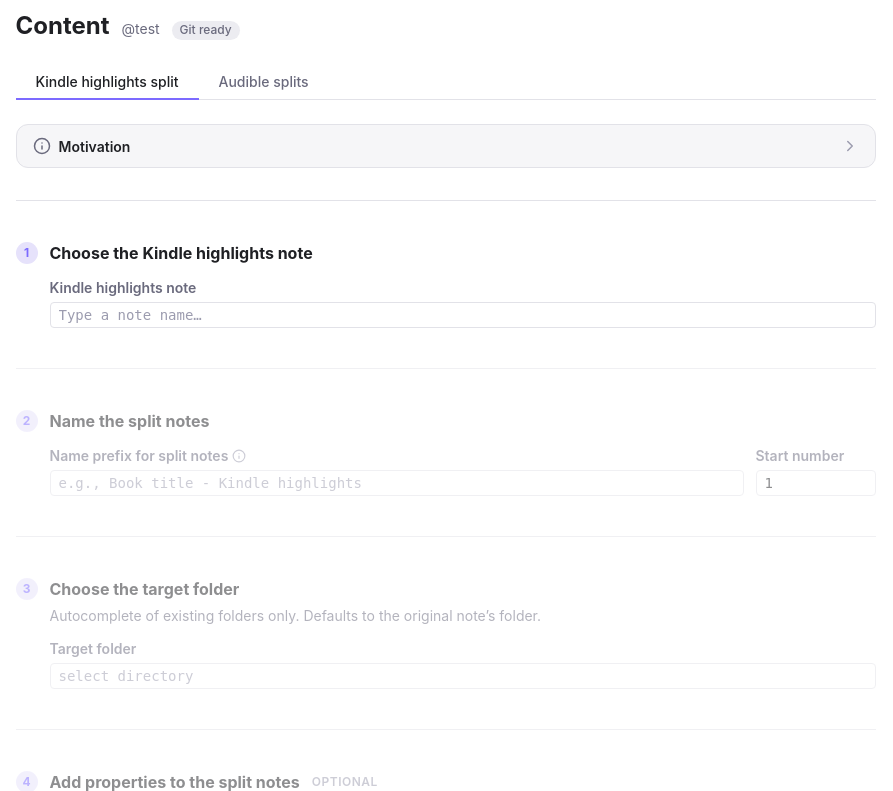
ContentPage: the Audible tab is an empty placeholder
Click the button "Audible splits".
click(264, 82)  # box [198, 65, 329, 100]
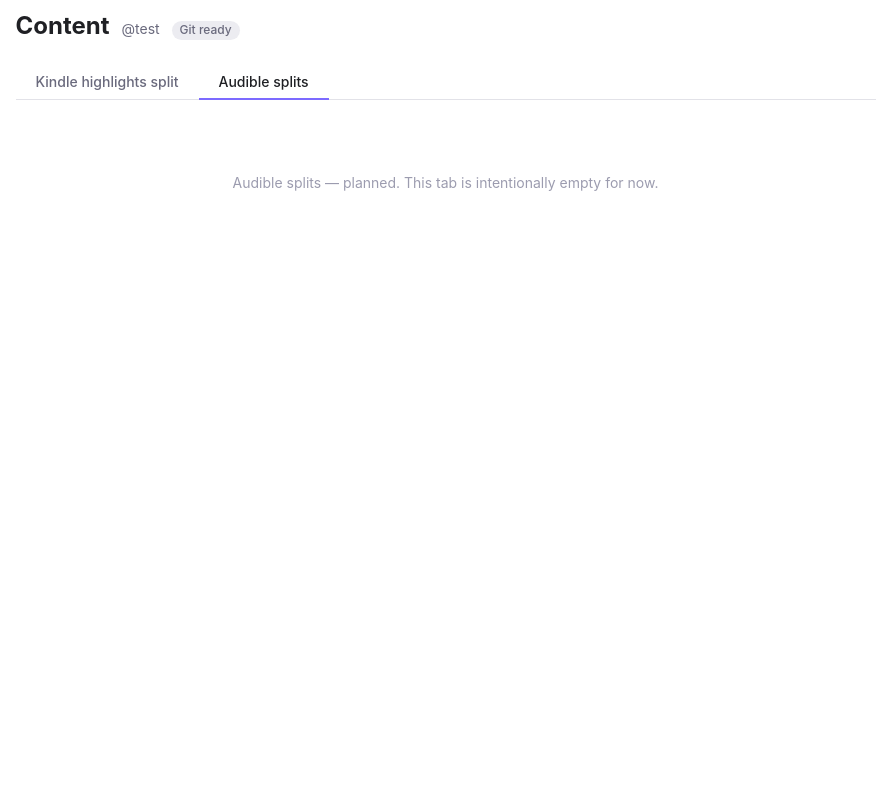
Now the text "intentionally empty" is shown, box [233, 174, 658, 191]
